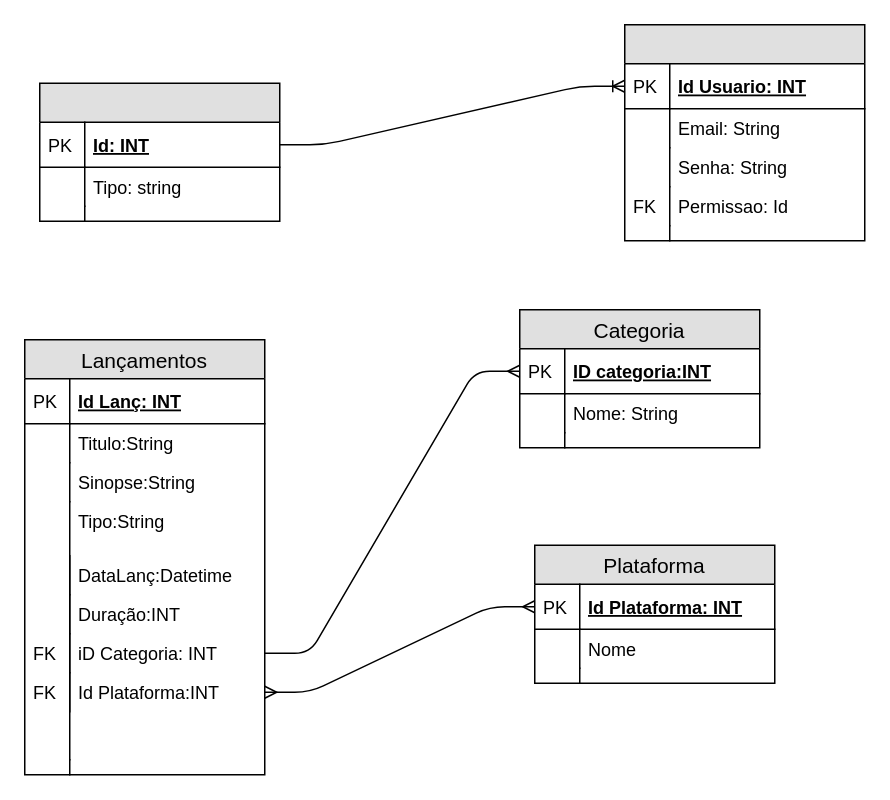
Image size: 890x800. Some labels were removed from this diagram. The shapes that lost their labels are listed below. From the top down, each one's box as (x1, y1, x2, y2) in pixels, then its label:
(38, 82, 280, 221): Permissao
(623, 23, 865, 241): Usuarios
